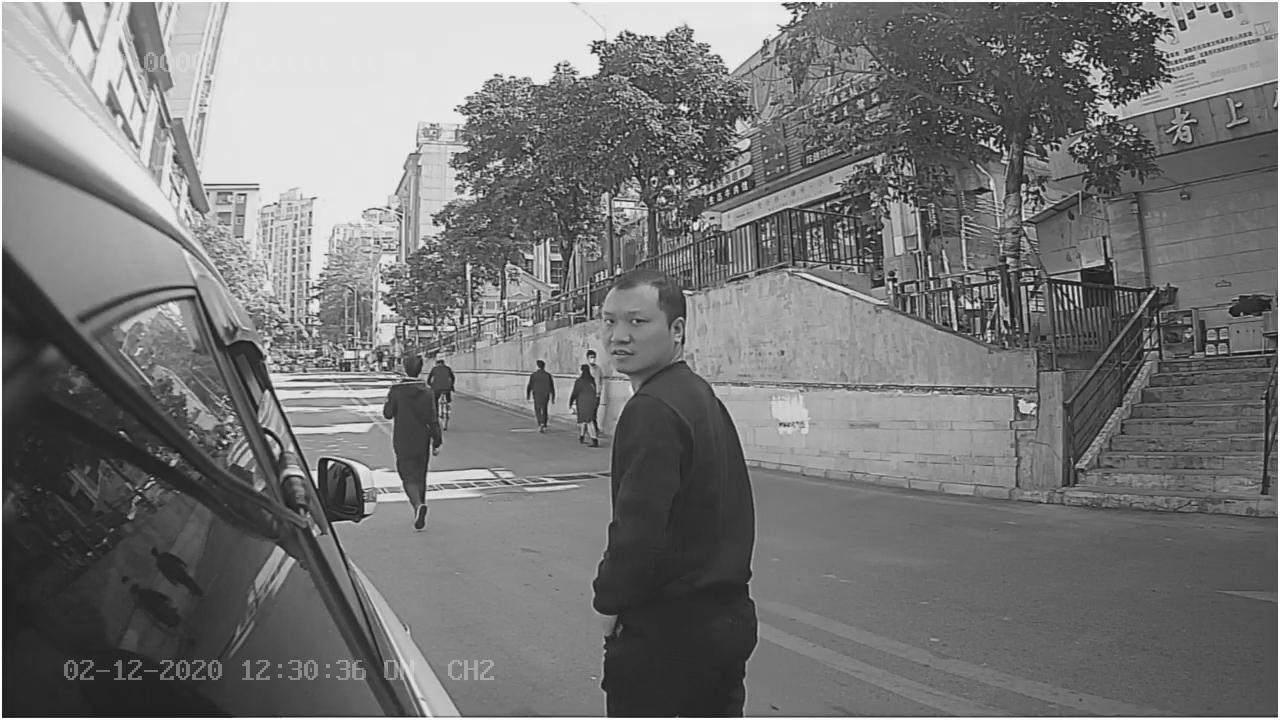person: (589, 260, 767, 652)
